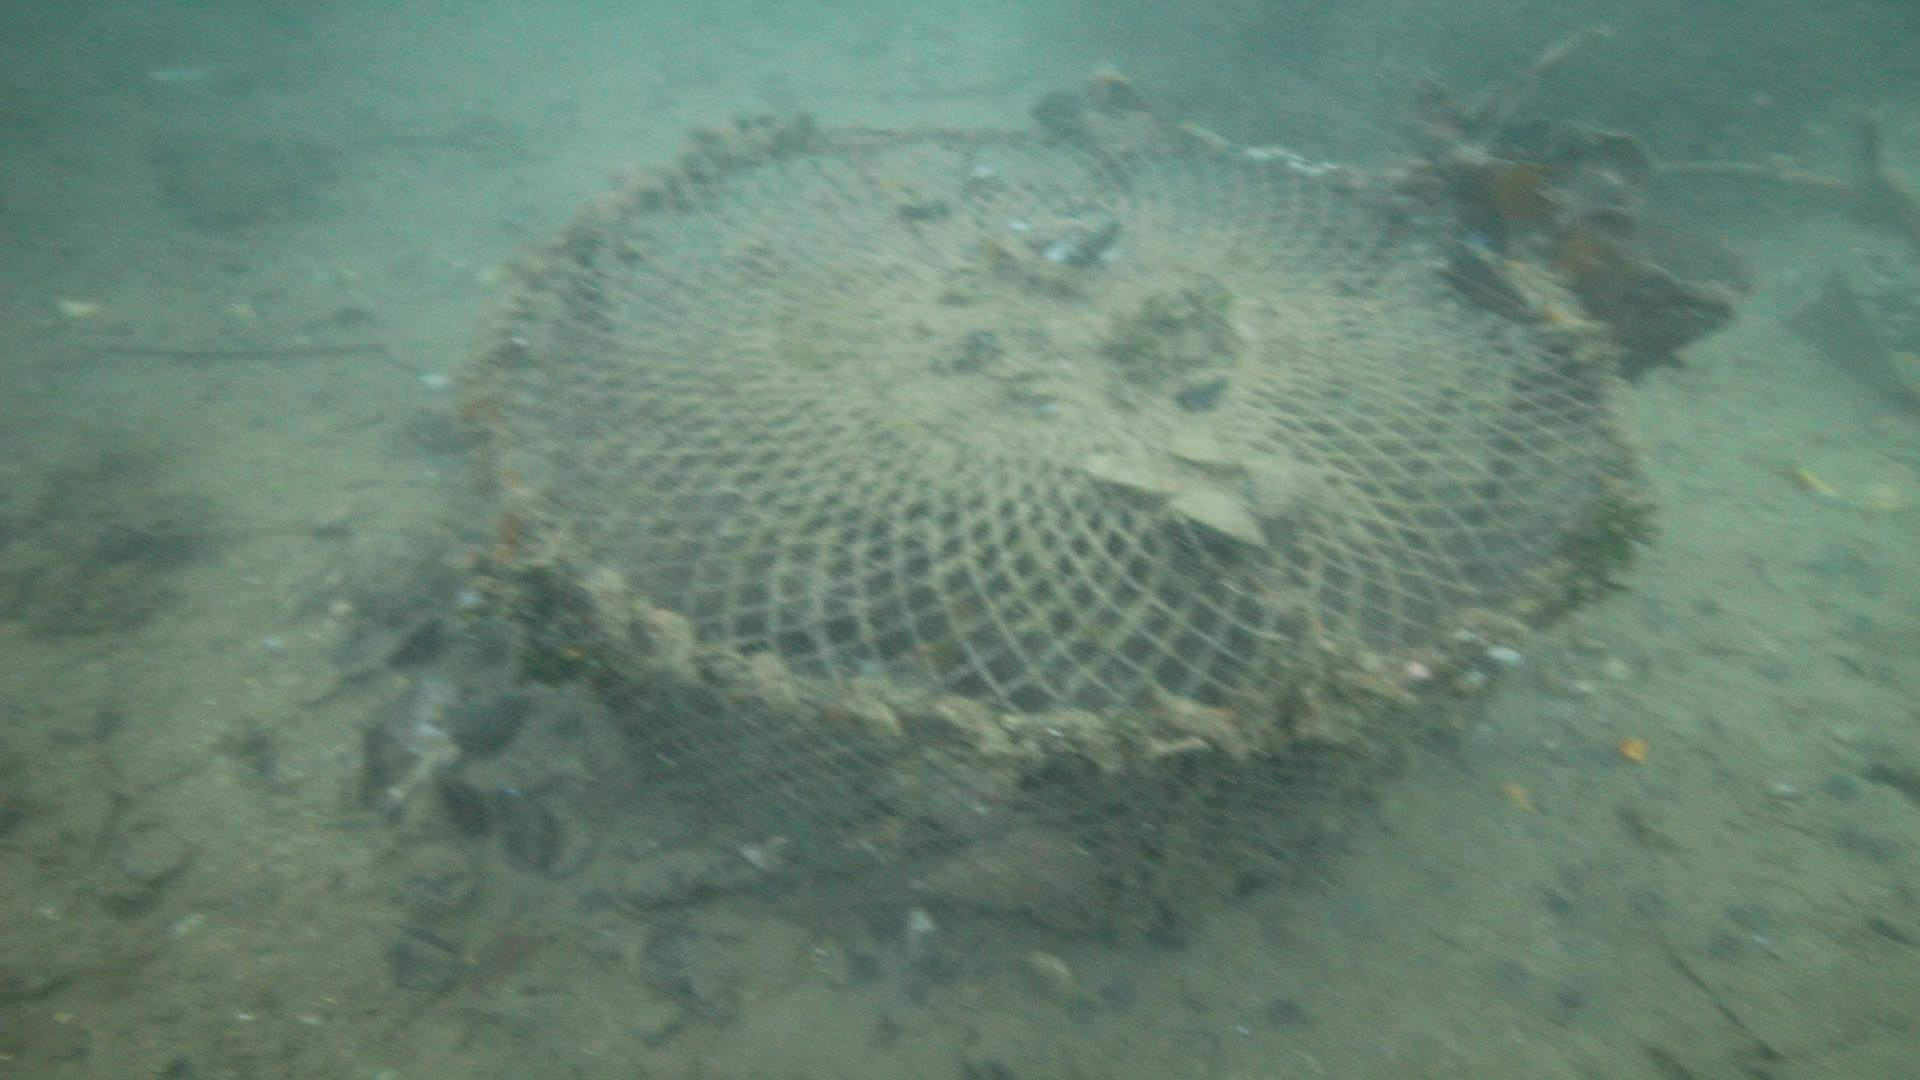circular fish trap: (463, 115, 1659, 938)
